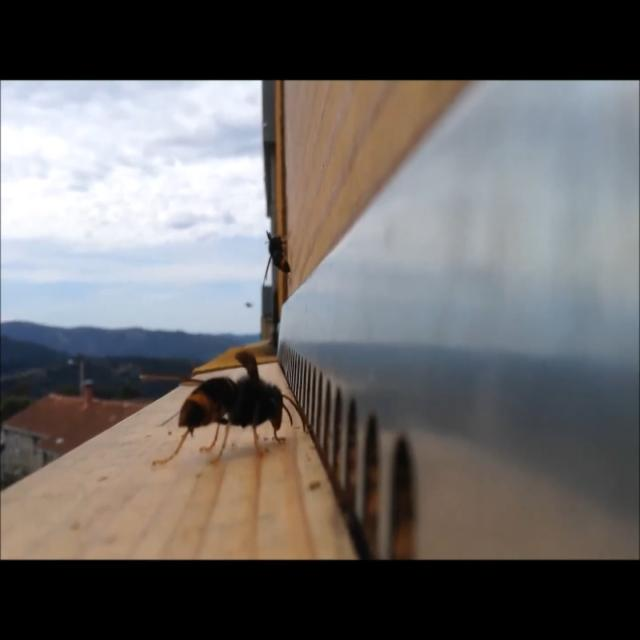Hornets: (140, 348, 306, 466), (260, 230, 292, 292)
